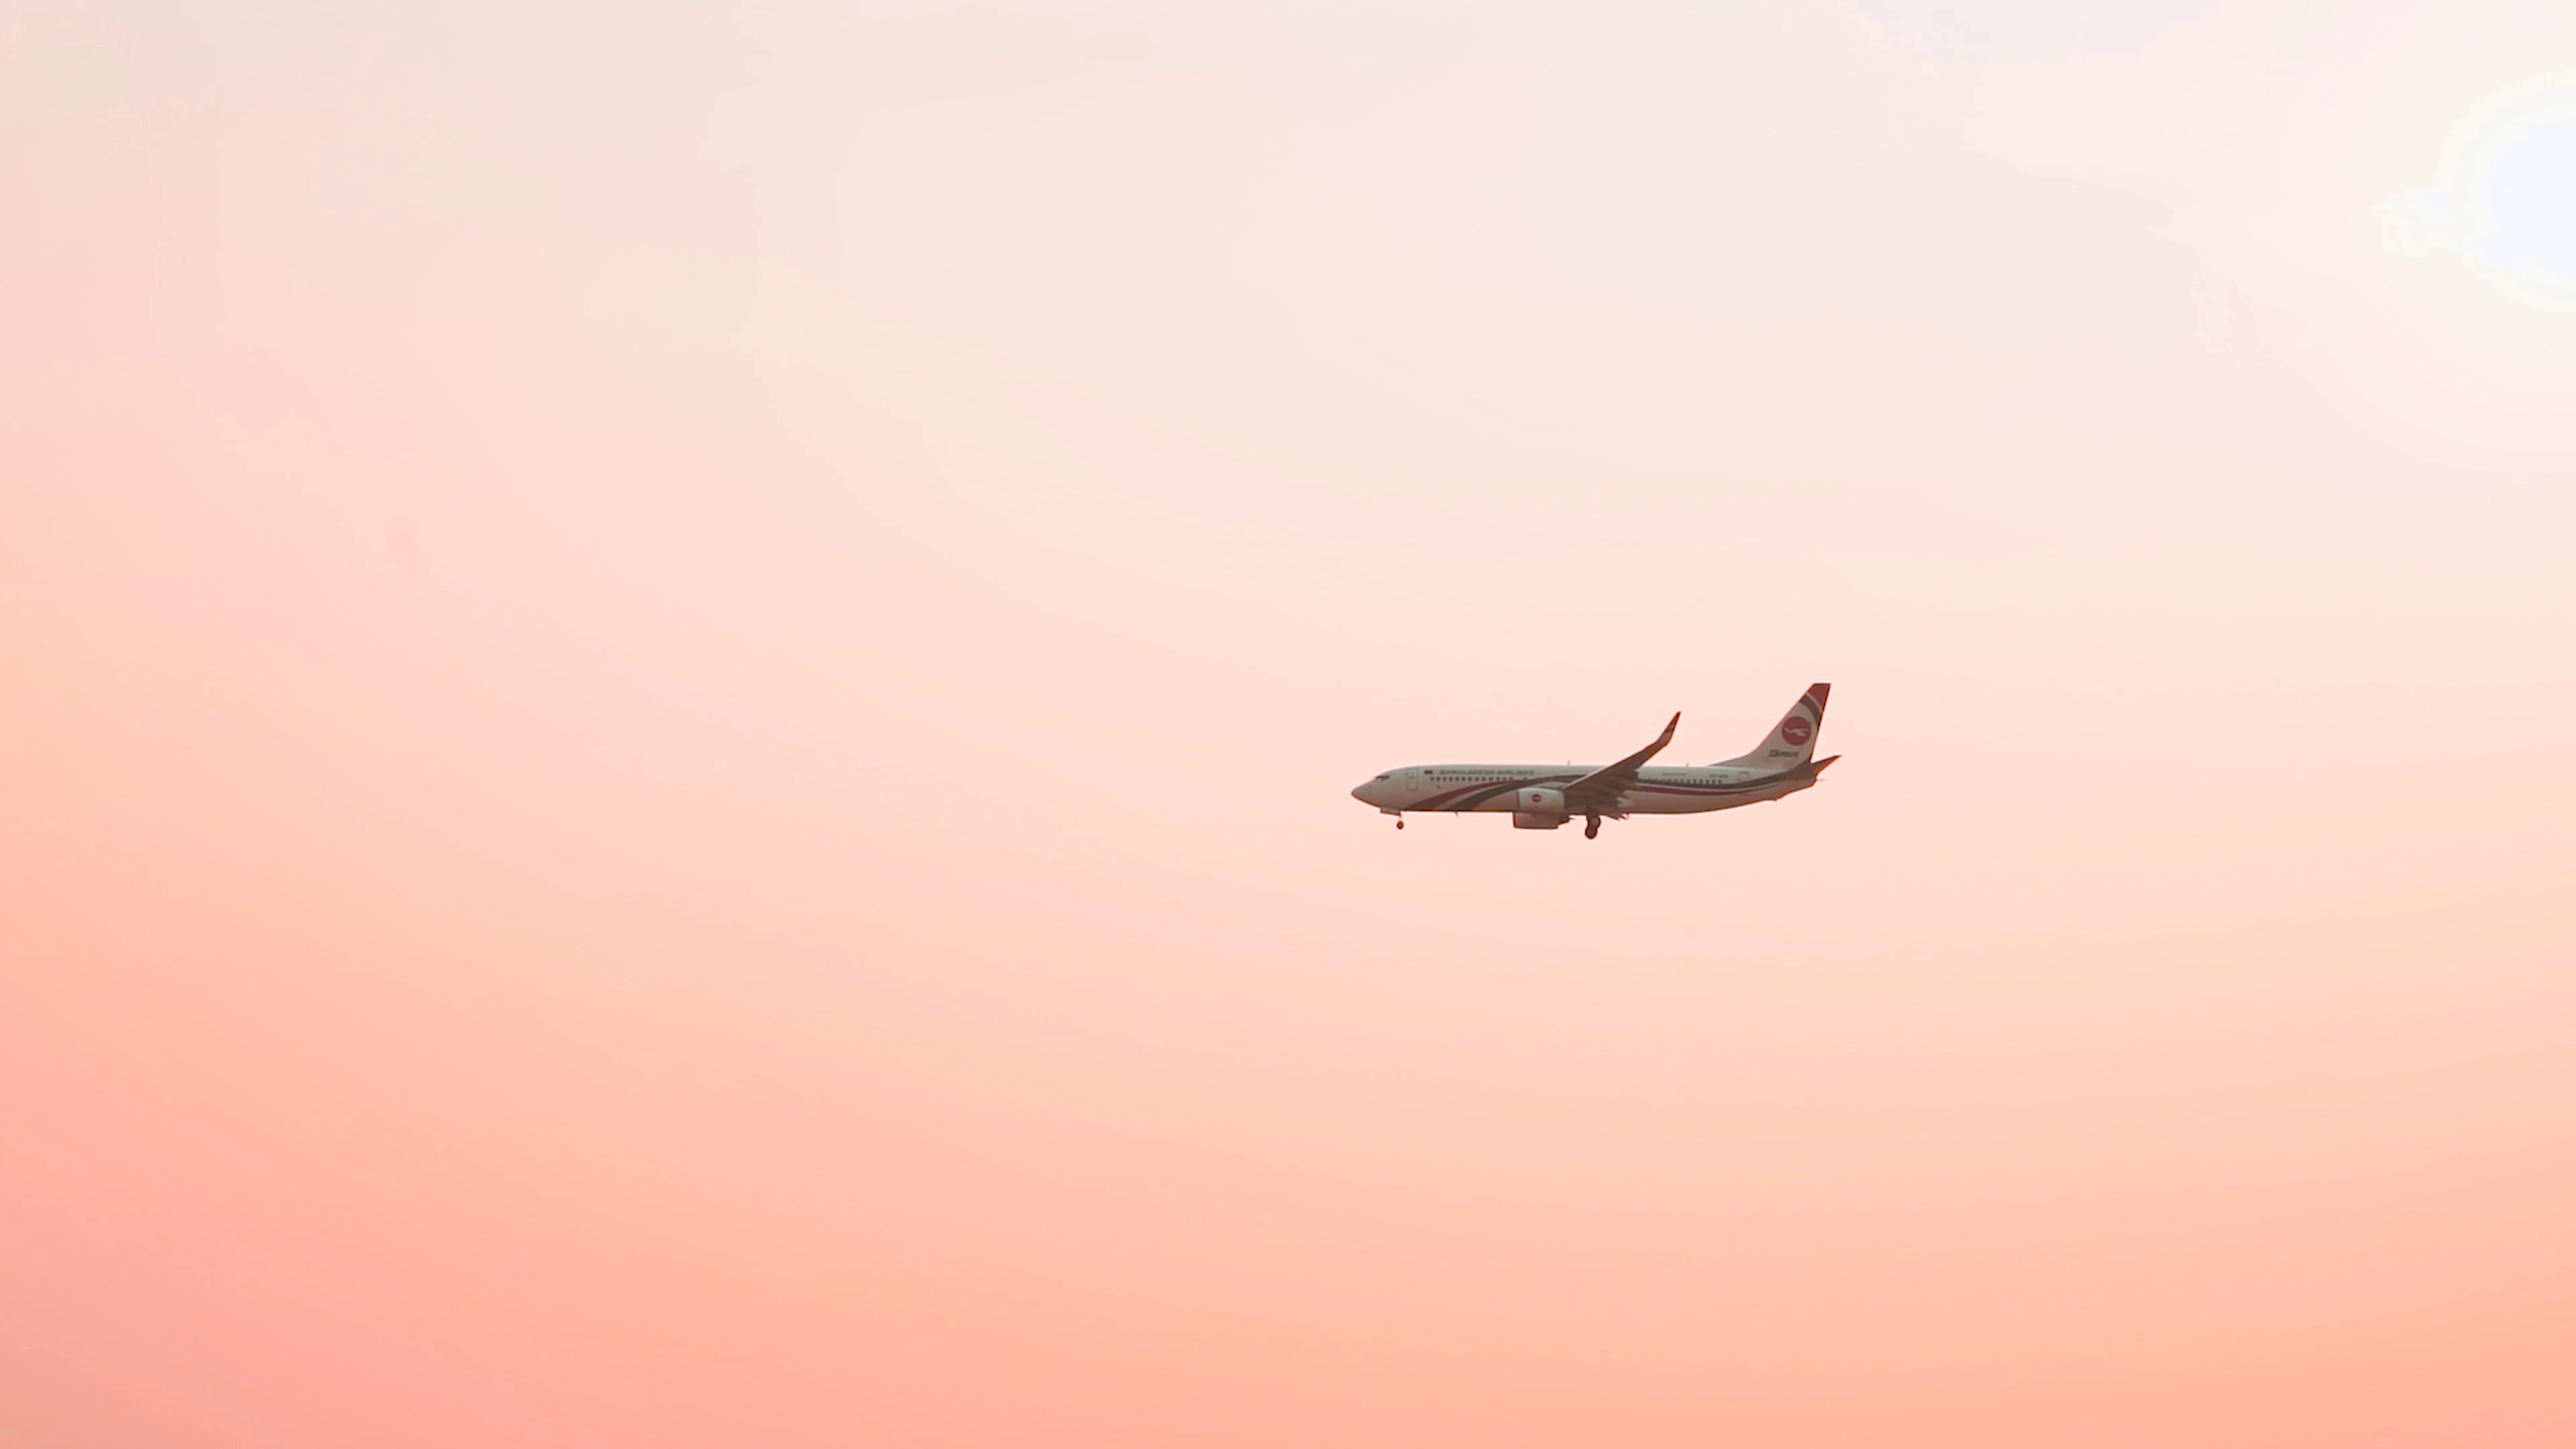plane: (1350, 683, 1842, 837)
